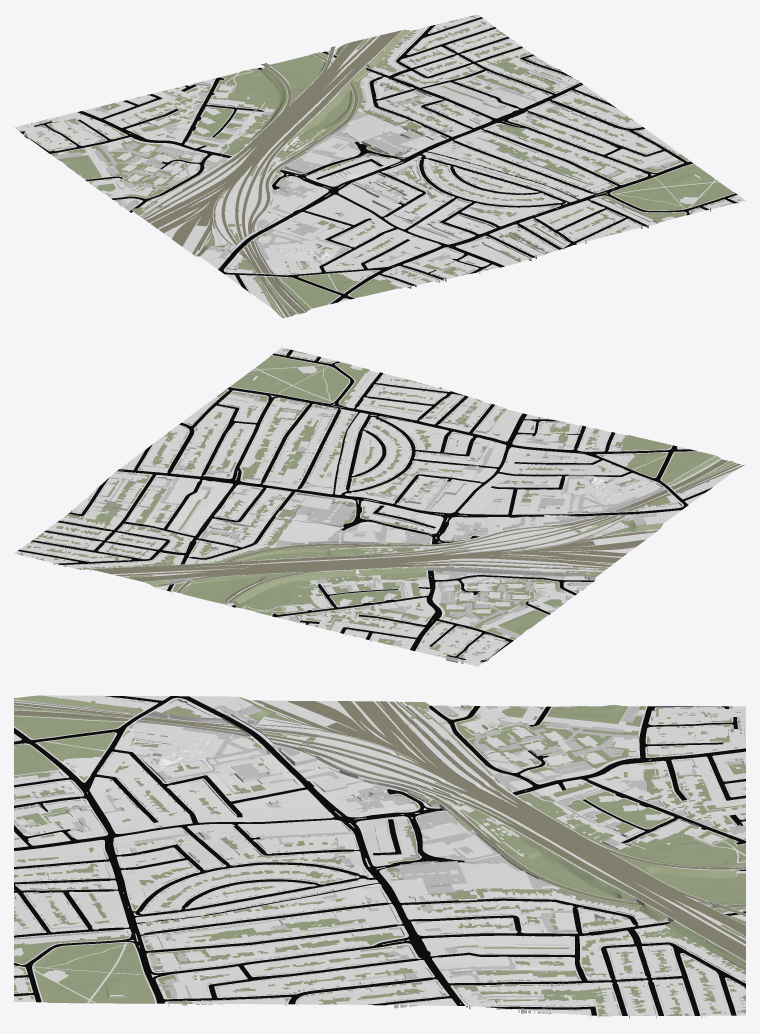
The model's file is TQ2775_Terrain_LOD_1_draco.glb.
The picture shows the model from 3 angles, top to bottom: view 1: azimuth 30°, elevation 25°; view 2: azimuth 150°, elevation 25°; view 3: azimuth 270°, elevation 25°; orthographic projection. The views are drawn at different scales.
Parts seen in each view (by area): view 1: TQ2775_Terrain; view 2: TQ2775_Terrain; view 3: TQ2775_Terrain.
Part boxes in pixels (bbox=[...]): TQ2775_Terrain: bbox=[14, 14, 745, 318]; TQ2775_Terrain: bbox=[14, 347, 745, 666]; TQ2775_Terrain: bbox=[14, 695, 745, 1018].
Bounding box in the file's own units: 1000 × 28.93 × 1000.
Materials: 1 (1 with a texture image).
